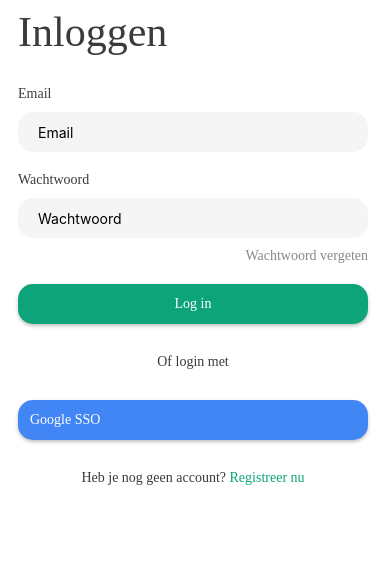
Test: LoginForm › handles login with error when credentials do not return token
In the field with placeholder "Email": coordinates (193, 132) [28,112,358,152], type "test@example.com"
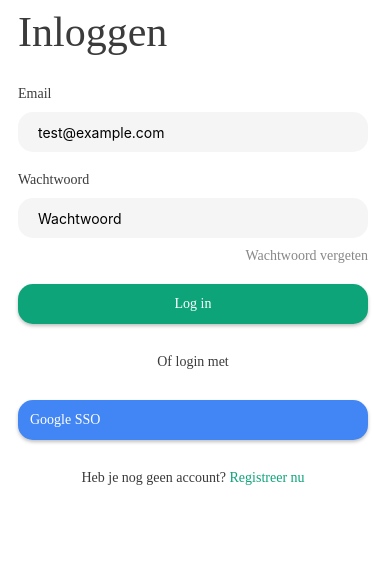
In the password field with placeholder "Wachtwoord": coordinates (193, 218) [28,198,358,238], type "password123"
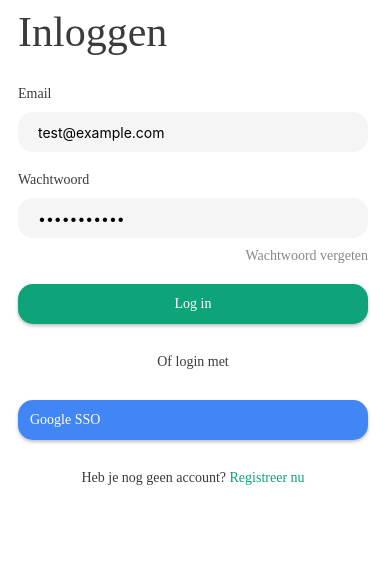
Click the text "Log in": coordinates (193, 304) [174,296,212,312]
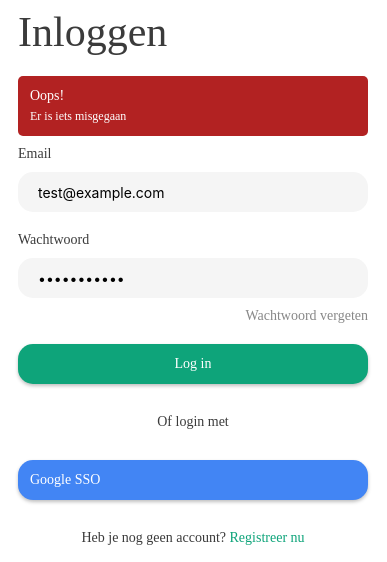
Check: the text "Er is iets misgegaan" is shown, box [30,109,126,124]
